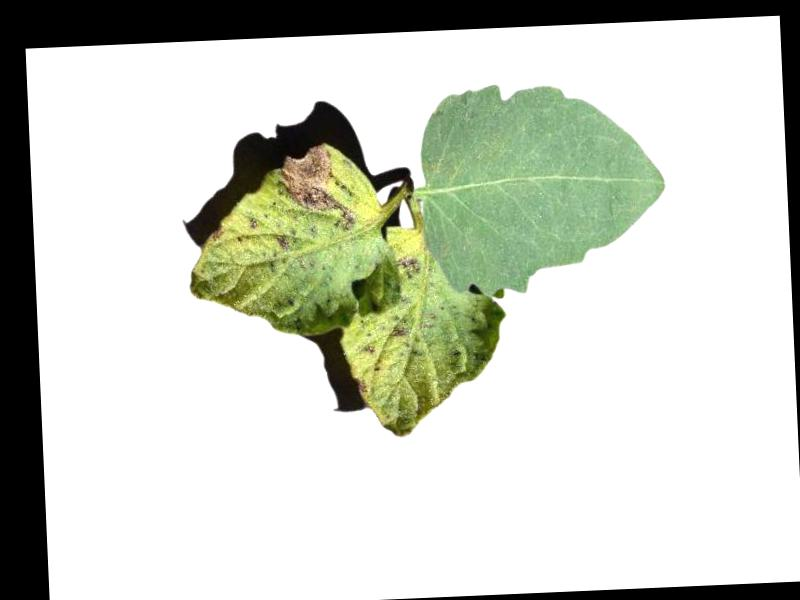Early_blight: (277, 141, 358, 236), (398, 253, 422, 281), (209, 224, 229, 243), (393, 328, 412, 340), (277, 238, 290, 254), (358, 380, 369, 396), (365, 343, 377, 355)
healthy: (407, 78, 669, 297)
